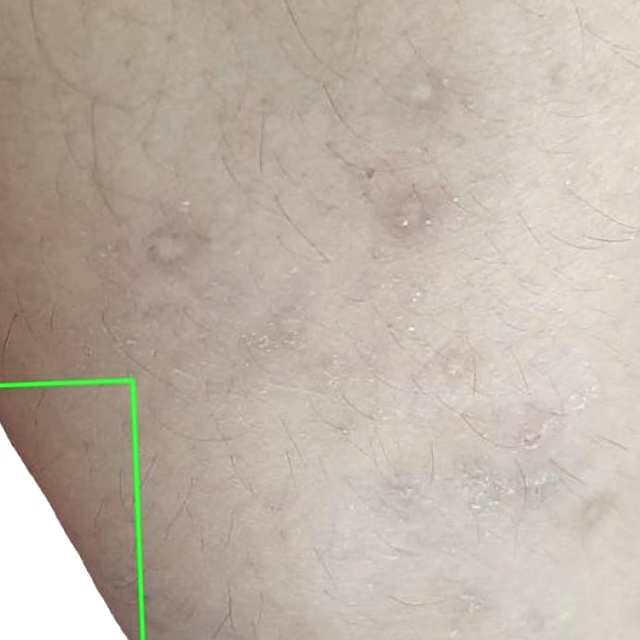Scabies: (0, 381, 142, 639)
